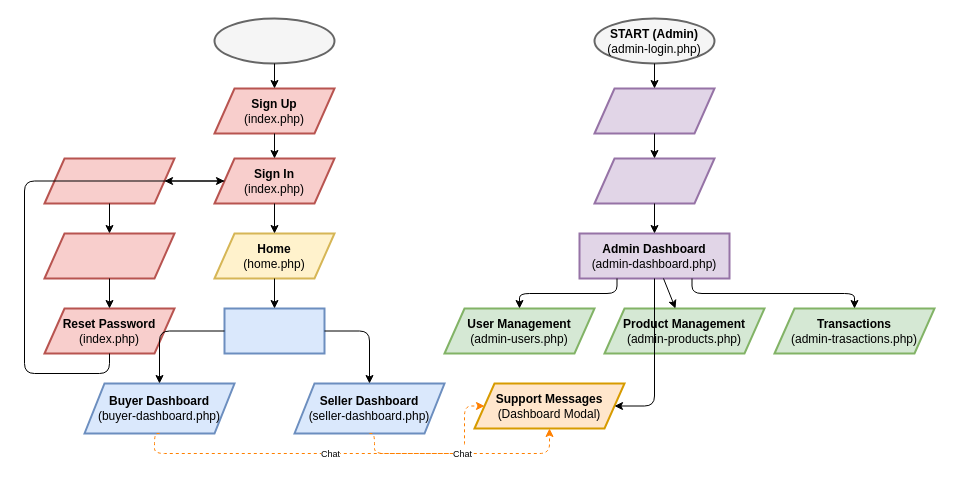
The diagram is 953 pixels wide and 479 high, and some of its shapes have lost their labels. Here are the shapes that lost their labels. From the top down, the box of each, then its label:
(213, 17, 335, 64): START (User) (index.php)
(593, 87, 715, 134): Admin Login (admin-login.php)
(43, 157, 175, 204): Forgot Password (index.php)
(593, 157, 715, 204): Verification (admin-login.php)
(43, 232, 175, 279): Verify Code (index.php)
(223, 307, 325, 354): Buyer | Seller (Profile Select)
